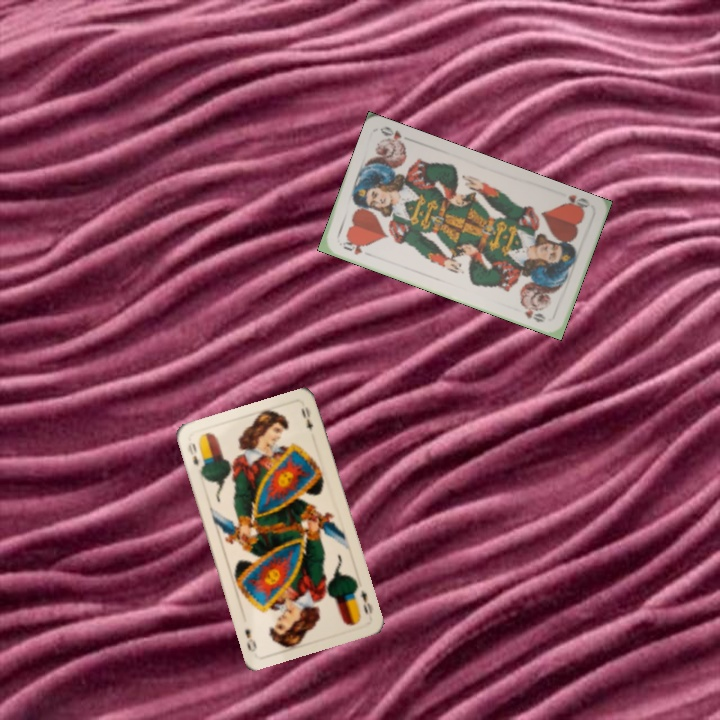EO: (356, 585, 376, 617), (184, 438, 201, 469)
HO: (558, 191, 593, 215), (339, 235, 366, 258)
